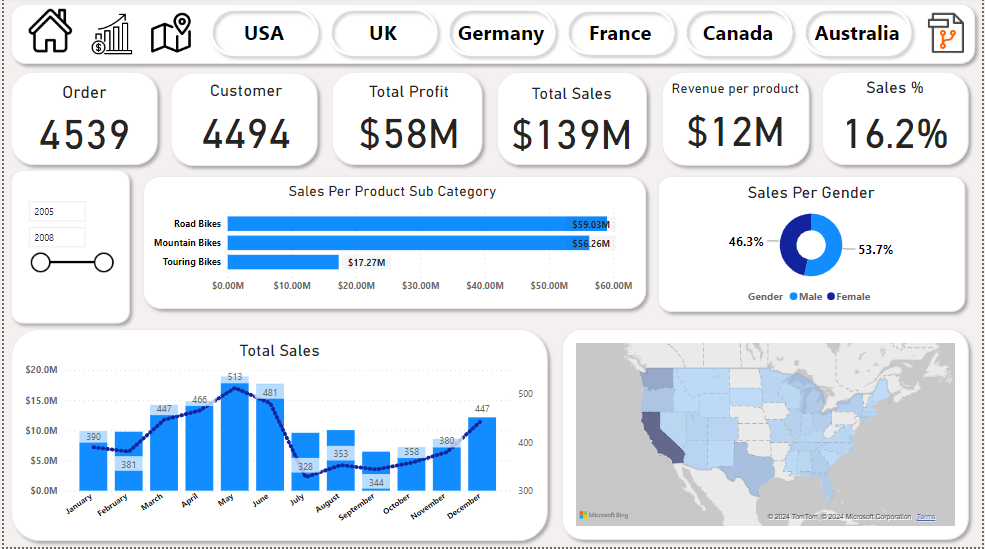

The dashboard page shown, as its layout file describes it:
{"tool":"powerbi","page":{"name":"MAIN PAGE","canvas":[1280,720],"ordinal":0},"visuals":[{"type":"shape","box":[1061.7,89.7,210,140],"z":0,"group":"g6"},{"type":"shape","box":[846.6,225.1,420.2,195.9],"z":0},{"type":"shape","box":[0,0,1280.2,96.5],"z":1000},{"type":"card","title":"Sales %","fields":{"Values":["factSalesTable.sales%"]},"box":[1072.2,106.1,188.4,106.2],"z":1000,"group":"g6"},{"type":"shape","box":[636.1,89.7,214.1,140.1],"z":2000,"group":"g4"},{"type":"donutChart","title":"Sales Per Gender","fields":{"Category":["dimCustomerTable.Gender"],"Y":["key mesure.Total_Sales"]},"box":[887,243,337.9,167.5],"z":2000},{"type":"group","id":"g1","title":"Group 1","box":[0,89.7,209.3,140.6],"z":3000},{"type":"shape","box":[0,89.7,210,140],"z":3000,"group":"g1"},{"type":"shape","box":[851.9,89.7,210.9,140.6],"z":3000,"group":"g3"},{"type":"group","id":"g2","title":"Group 3","box":[420.3,89.7,215.3,140.6],"z":4000},{"type":"card","title":"Total Sales","fields":{"Values":["key mesure.Total_Sales"]},"box":[650.8,114.2,185,93.9],"z":4000,"group":"g4"},{"type":"group","id":"g3","title":"Group 5","box":[851.9,89.7,209.3,140.6],"z":5000},{"type":"shape","box":[173.3,225.6,676.7,192.2],"z":5000,"group":"g7"},{"type":"group","id":"g4","title":"Group 6","box":[636.1,89.7,215.3,140.6],"z":6000},{"type":"card","title":"Order","fields":{"Values":["key mesure.num_of_orders"]},"box":[25.9,111.3,158.2,96.7],"z":6000,"group":"g1"},{"type":"image","box":[26,10.8,69.4,67.3],"z":7000},{"type":"shape","box":[209.8,89.9,210,140],"z":7000,"group":"g5"},{"type":"shape","box":[420.3,89.7,215,140],"z":8000,"group":"g2"},{"type":"shape","box":[0,425,720.6,295.6],"z":8000},{"type":"actionButton","box":[260.6,5.5,159.8,80.6],"z":9000},{"type":"card","title":"Revenue per product","fields":{"Values":["factSalesTable.revenue per product"]},"box":[861.6,109.2,192,99.4],"z":9000,"group":"g3"},{"type":"actionButton","box":[415.9,5.5,159.8,80.6],"z":10000},{"type":"barChart","title":" Sales Per Product Sub Category ","fields":{"Y":["key mesure.Total_Sales"],"Category":["dimProductSubcategoryTable.ProductSubcategoryName"]},"box":[190.7,242.8,637.8,154.4],"z":10000,"group":"g7"},{"type":"card","title":"Total Profit","fields":{"Values":["key mesure.TotalProfit"]},"box":[443,112.6,175.2,97.9],"z":10002,"group":"g2"},{"type":"lineStackedColumnComboChart","title":"Total Sales","fields":{"Category":["calender.Date.Variation.Date Hierarchy.Year","calender.Date.Variation.Date Hierarchy.Quarter","calender.Date.Variation.Date Hierarchy.Month"],"Y":["key mesure.Total_Sales"],"Y2":["key mesure.num_of_orders"]},"box":[21.8,450.2,677,246.9],"z":11000},{"type":"actionButton","box":[571.1,5.5,159.8,80.6],"z":12000},{"type":"card","title":"Customer","fields":{"Values":["key mesure.num_of_customers"]},"box":[242.3,110.1,149.4,98.1],"z":12000,"group":"g5"},{"type":"actionButton","box":[726.3,7,159.8,77.8],"z":13000},{"type":"actionButton","box":[881.6,5.5,159.8,80.6],"z":14000},{"type":"actionButton","box":[1036.8,5.5,159.8,80.6],"z":15000},{"type":"group","id":"g5","title":"Group 7","box":[209.8,89.9,210,140],"z":16000},{"type":"image","box":[1197,10.4,73.1,73.1],"z":17000},{"type":"group","id":"g6","title":"Group 4","box":[1061.7,89.7,210,140],"z":18000},{"type":"group","id":"g7","title":"Group 2","box":[173.3,225.6,676.7,192.2],"z":19000},{"type":"group","id":"g8","title":"Group 8","box":[0,216.7,173.3,218.9],"z":20000},{"type":"image","box":[184.3,15.8,67.7,61.9],"z":21000},{"type":"image","box":[109,16.4,64.2,62.7],"z":22000},{"type":"slicer","fields":{"Values":["dimRegionTable.Country"]},"box":[1071.5,594.7,116.2,58.1],"z":23000},{"type":"shape","box":[0,216.7,173.3,218.9],"z":24000,"group":"g8"},{"type":"shape","box":[721.2,425.5,550.3,293.9],"z":24000},{"type":"filledMap","fields":{"Category":["dimRegionTable.Region"]},"box":[743.4,447.7,505.8,249.5],"z":25000},{"type":"slicer","fields":{"Values":["calender.Date.Variation.Date Hierarchy.Year"]},"box":[20,242.3,132.2,168.9],"z":25001,"group":"g8"}]}

Visuals, with their boxes in screenshot pixels (x1, y1, x2, y2), scaled from the page's 1280x720 canvas onto the 985x549 screenshot:
shape: 817,68,979,175
shape: 651,172,975,321
shape: 0,0,984,74
"Sales %" card: 825,81,970,162
shape: 489,68,654,175
"Sales Per Gender" donutChart: 683,185,943,313
"Group 1" group: 0,68,161,176
shape: 0,68,162,175
shape: 656,68,818,176
"Group 3" group: 323,68,489,176
"Total Sales" card: 501,87,643,159
"Group 5" group: 656,68,817,176
shape: 133,172,654,319
"Group 6" group: 489,68,655,176
"Order" card: 20,85,142,159
image: 20,8,73,60
shape: 161,69,323,175
shape: 323,68,489,175
shape: 0,324,555,548
actionButton: 201,4,324,66
"Revenue per product" card: 663,83,811,159
actionButton: 320,4,443,66
" Sales Per Product Sub Category " barChart: 147,185,638,303
"Total Profit" card: 341,86,476,161
"Total Sales" lineStackedColumnComboChart: 17,343,538,532
actionButton: 439,4,562,66
"Customer" card: 186,84,301,159
actionButton: 559,5,682,65
actionButton: 678,4,801,66
actionButton: 798,4,921,66
"Group 7" group: 161,69,323,175
image: 921,8,977,64
"Group 4" group: 817,68,979,175
"Group 2" group: 133,172,654,319
"Group 8" group: 0,165,133,332
image: 142,12,194,59
image: 84,13,133,60
slicer - dimRegionTable.Country: 825,453,914,498
shape: 0,165,133,332
shape: 555,324,978,548
filledMap - dimRegionTable.Region: 572,341,961,532
slicer - calender.Date.Variation.Date Hierarchy.Year: 15,185,117,314
